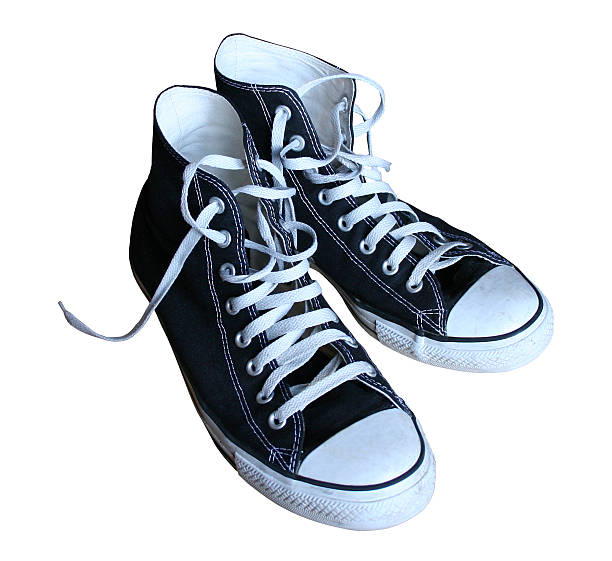Footwear: (109, 27, 561, 538)
